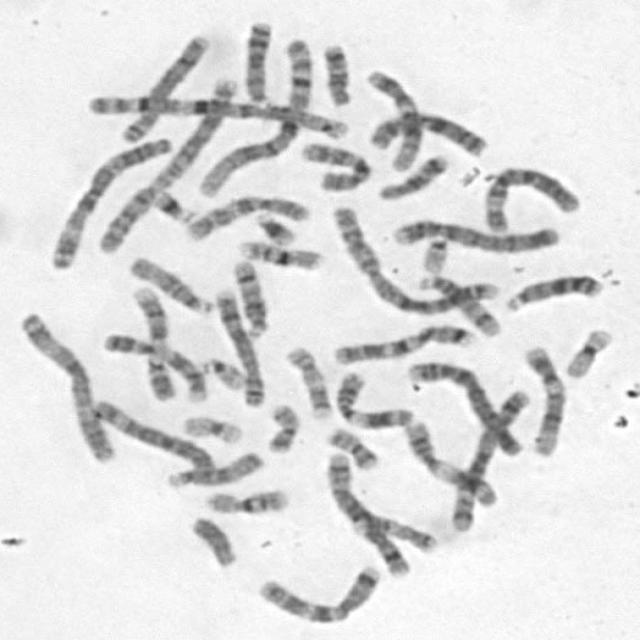A1: (192, 30, 316, 199), (80, 86, 356, 143)
A2: (90, 72, 242, 256), (326, 200, 501, 322)
A3: (42, 130, 175, 272), (13, 306, 120, 465)
B4: (402, 354, 528, 458), (386, 213, 563, 254)
B5: (445, 382, 535, 535), (320, 447, 414, 580)
C10: (180, 188, 312, 242), (296, 136, 375, 193)
C11: (397, 415, 502, 509), (331, 366, 419, 431)
C12: (362, 63, 426, 173), (519, 342, 569, 458)
C6: (86, 393, 218, 474), (477, 161, 584, 233)
C7: (252, 559, 384, 627), (328, 319, 477, 366)
C8: (115, 27, 214, 145), (211, 283, 270, 408)
C9: (97, 328, 210, 403), (125, 280, 178, 403)
D13: (498, 267, 606, 313), (239, 15, 276, 104)
D14: (412, 270, 504, 338), (227, 254, 271, 339)
D15: (125, 251, 218, 315), (160, 445, 266, 489)
E16: (235, 234, 326, 272), (200, 482, 292, 516)
E17: (280, 340, 334, 420), (353, 509, 438, 555)
E18: (372, 148, 452, 202), (318, 37, 354, 108)
F19: (559, 322, 617, 380), (177, 410, 246, 445)
F20: (322, 421, 382, 471), (260, 398, 303, 456)
G21: (147, 182, 199, 225), (250, 205, 300, 247)
G22: (196, 352, 249, 393), (416, 230, 452, 274)
X: (362, 106, 491, 158)
Y: (184, 511, 240, 568)
